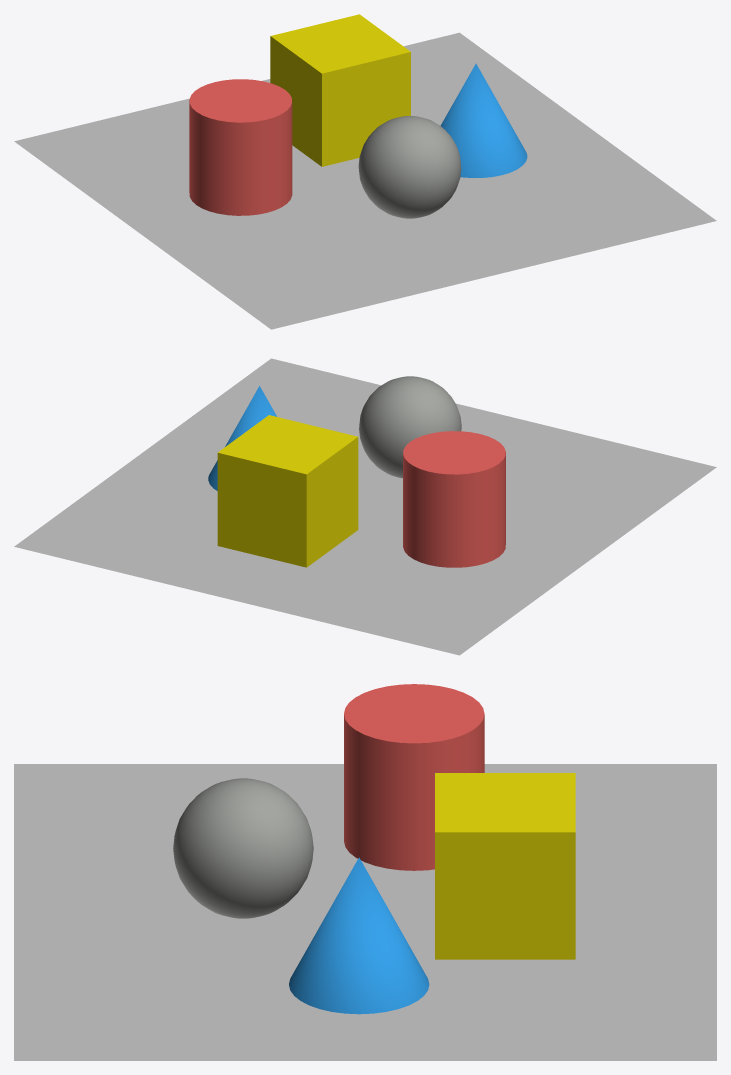
File: simple-scene.gltf
The picture shows the model from 3 angles, top to bottom: view 1: azimuth 30°, elevation 25°; view 2: azimuth 150°, elevation 25°; view 3: azimuth 270°, elevation 25°; orthographic projection. The views are drawn at different scales.
Visible parts, largest first — view 1: Plane, Cube, Cylinder, Sphere, Cone; view 2: Plane, Cube, Cylinder, Sphere, Cone; view 3: Plane, Cube, Cylinder, Sphere, Cone.
Part boxes in pixels (x1,y1,x2,y2): Plane: (14,32,716,329); Cube: (270,14,410,166); Cylinder: (189,79,292,215); Sphere: (358,116,461,218); Cone: (440,63,527,177); Plane: (14,358,716,655); Cube: (217,415,358,567); Cylinder: (403,431,505,567); Sphere: (359,376,461,478); Cone: (208,386,276,490); Plane: (14,764,716,1060); Cube: (435,773,575,959); Cylinder: (344,684,484,870); Sphere: (173,778,313,918); Cone: (289,857,429,1014).
Bounding box in the file's own units: 10 × 2 × 10.
